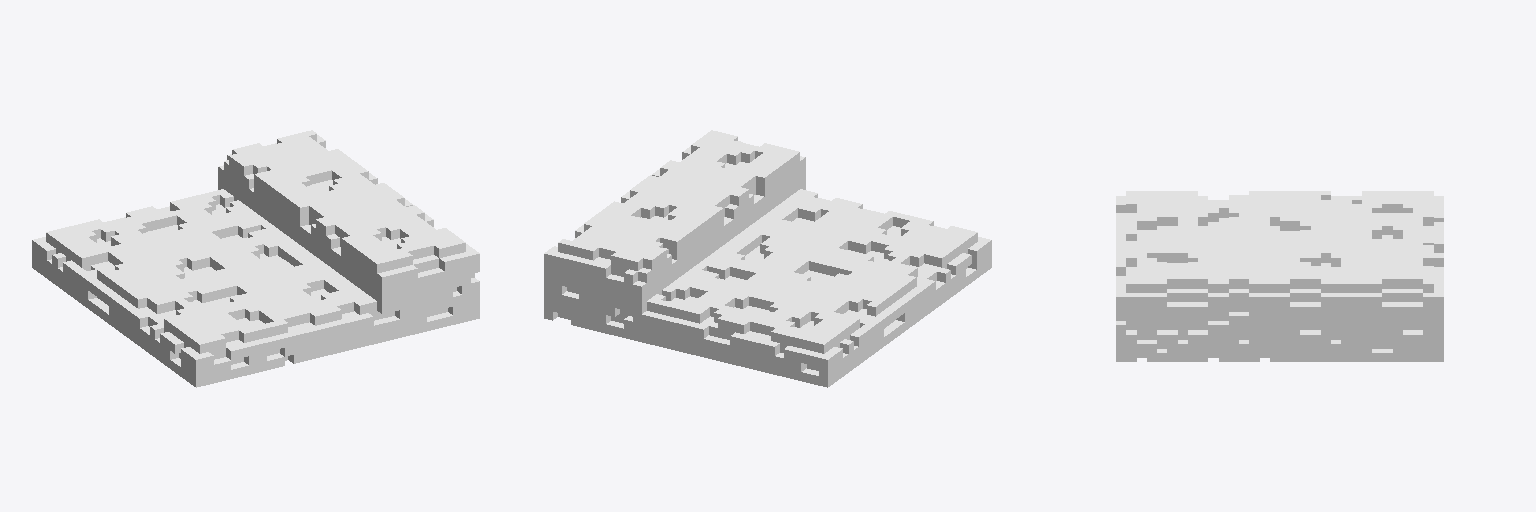
Rendered from grassTransWaterTile.obj.
3 views of the same model, side by side, from view 1: azimuth 30°, elevation 25°; view 2: azimuth 150°, elevation 25°; view 3: azimuth 270°, elevation 25° (orthographic).
Parts seen in each view (by area): view 1: object 1; view 2: object 1; view 3: object 1.
Part boxes in pixels (bbox=[...]): object 1: bbox=[32, 130, 479, 387]; object 1: bbox=[544, 130, 991, 387]; object 1: bbox=[1116, 191, 1443, 361].
Bounding box in the file's own units: 3.2 × 0.8 × 3.2.